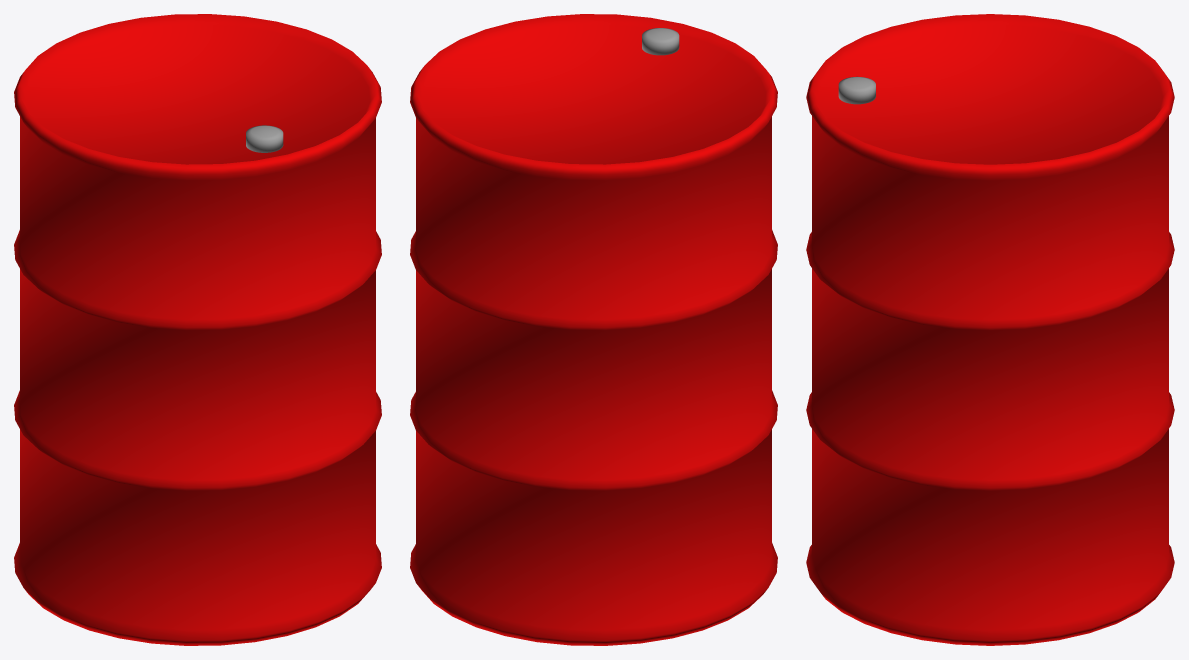
The model's file is Aceitesc.fbx.
The picture shows the model from 3 angles, left to right: view 1: azimuth 30°, elevation 25°; view 2: azimuth 150°, elevation 25°; view 3: azimuth 270°, elevation 25°; orthographic projection.
Visible parts, largest first — view 1: OilDrum, OilDrumCap; view 2: OilDrum, OilDrumCap; view 3: OilDrum, OilDrumCap.
Boxes of the visible parts, x1,y1,x2,y2 form: OilDrum: (14,14,381,645); OilDrumCap: (246,125,283,152); OilDrum: (410,14,777,645); OilDrumCap: (642,28,679,55); OilDrum: (806,14,1174,645); OilDrumCap: (838,76,875,104).
Bounding box in the file's own units: 59.04 × 86.44 × 59.04.
